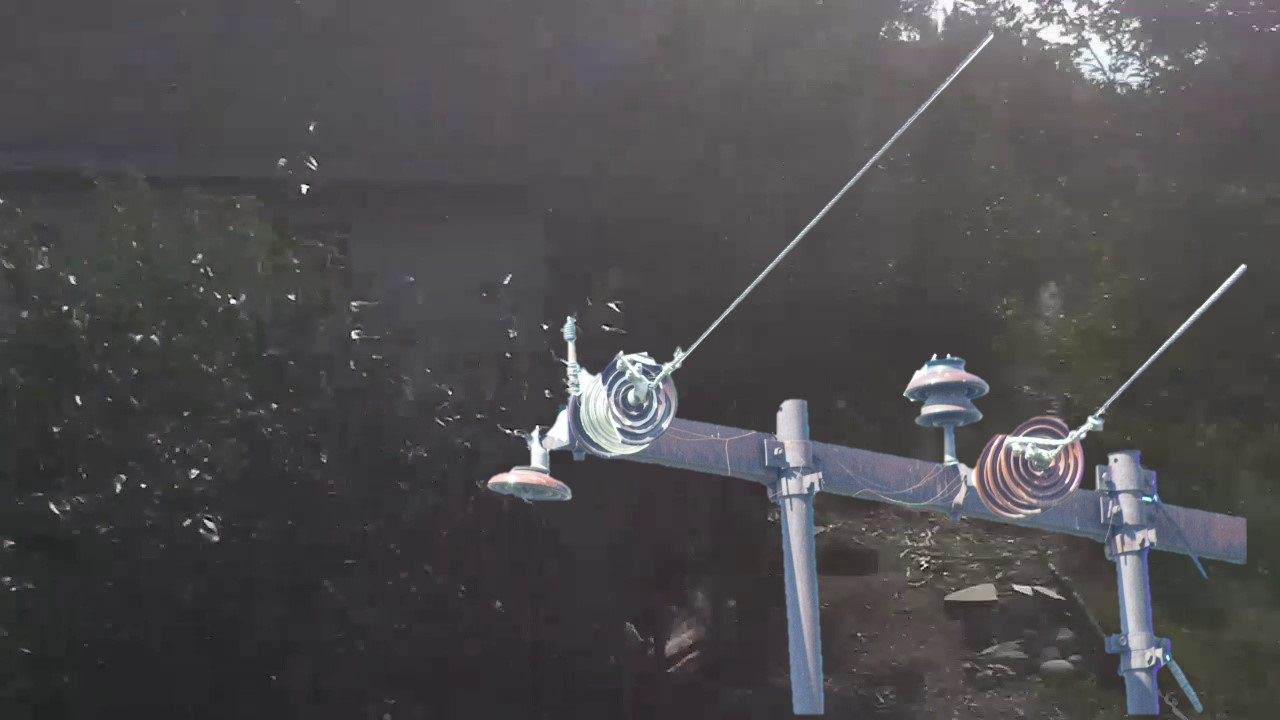defect_disc: (599, 348, 686, 450)
insulator_disc: (998, 412, 1089, 508), (482, 465, 576, 515)
